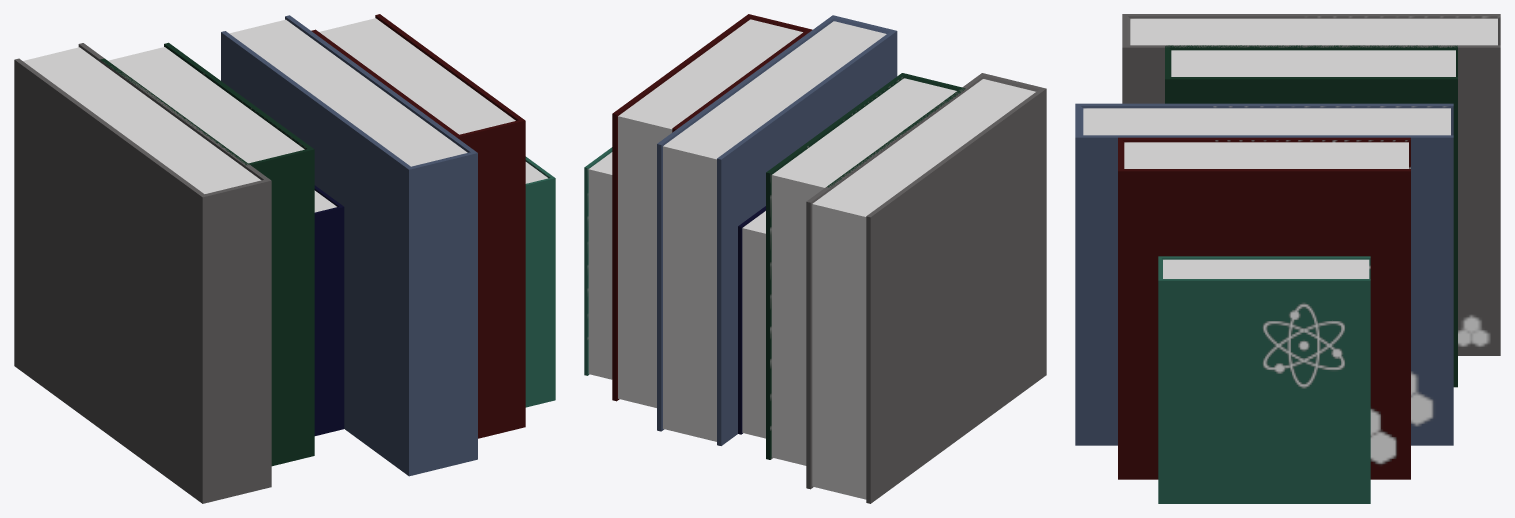
File: Livre.fbx
The picture shows the model from 3 angles, left to right: view 1: azimuth 30°, elevation 25°; view 2: azimuth 150°, elevation 25°; view 3: azimuth 270°, elevation 25°; orthographic projection. The views are drawn at different scales.
Visible parts, largest first — view 1: Cube.034, Cube.031, Cube.032, Cube.035, Cube.033, Cube.036; view 2: Cube.034, Cube.031, Cube.032, Cube.035, Cube.033, Cube.036; view 3: Cube.032, Cube.033, Cube.031, Cube.034, Cube.035.
Boxes of the visible parts, <box> form: Cube.034: <box>14,43,271,503</box>; Cube.031: <box>221,15,477,476</box>; Cube.032: <box>311,14,525,438</box>; Cube.035: <box>100,42,314,466</box>; Cube.033: <box>525,156,555,407</box>; Cube.036: <box>314,185,344,435</box>; Cube.034: <box>806,73,1046,503</box>; Cube.031: <box>657,15,897,445</box>; Cube.032: <box>612,14,812,407</box>; Cube.035: <box>766,73,965,465</box>; Cube.033: <box>584,147,612,379</box>; Cube.036: <box>738,206,765,438</box>; Cube.032: <box>1118,137,1410,479</box>; Cube.033: <box>1158,256,1370,503</box>; Cube.031: <box>1075,103,1453,445</box>; Cube.034: <box>1122,14,1500,355</box>; Cube.035: <box>1165,45,1457,387</box>.
Bounding box in the file's own units: 21.81 × 17.23 × 21.55.
